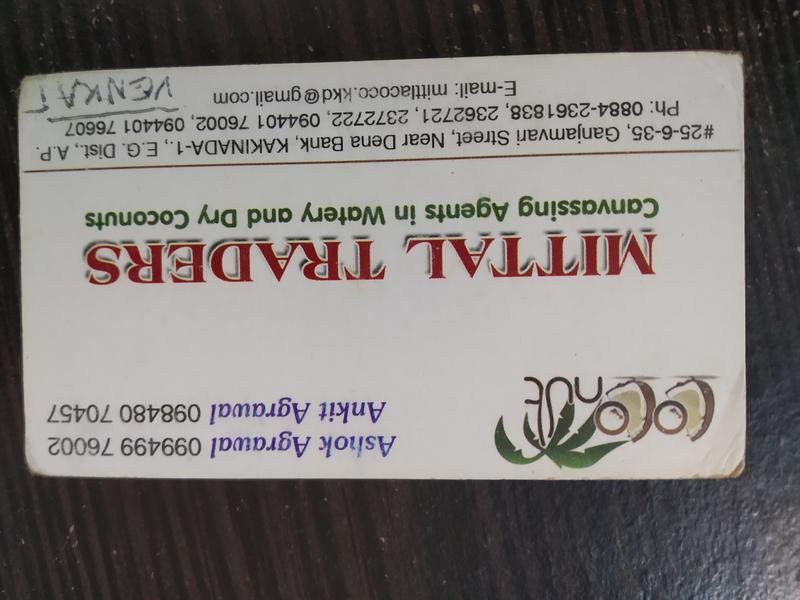card: (21, 53, 749, 482)
